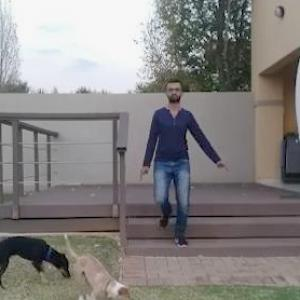land: (133, 83, 217, 241)
